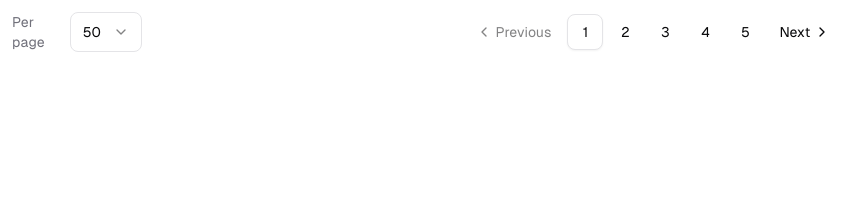
it: GamesPagination › per-page selector › shows all four per-page options
Click the dropdown: {"x": 106, "y": 32} [70,12,142,52]
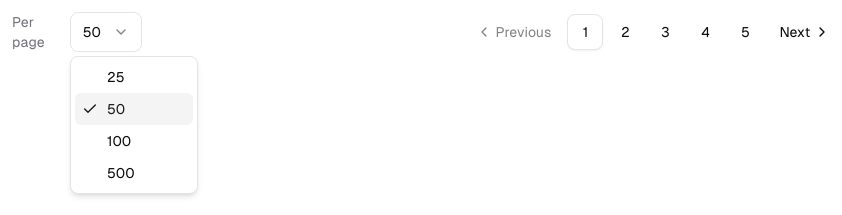
Expected: the option "25" is shown, [107,69,124,85]
Expected: the option "50" is shown, [75,93,193,125]
Expected: the option "100" is shown, [107,133,131,149]
